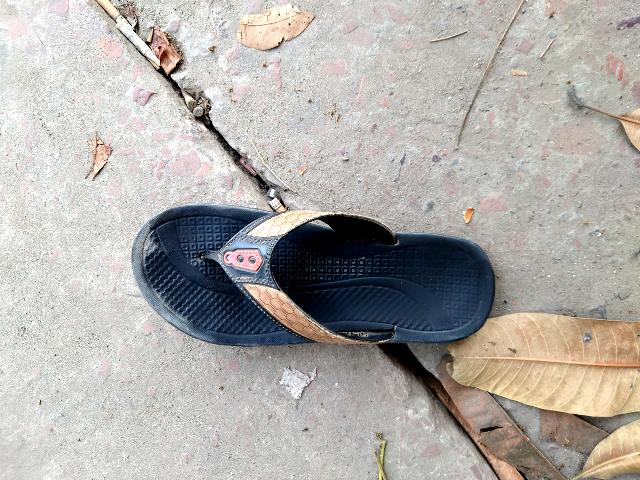sandal: (104, 200, 491, 346)
